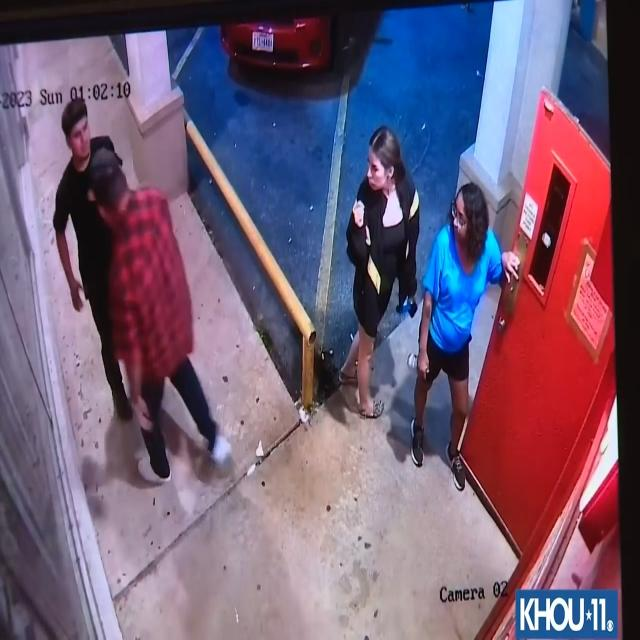Person: (83, 144, 225, 476), (417, 181, 522, 487), (49, 88, 137, 432), (341, 120, 414, 420)
